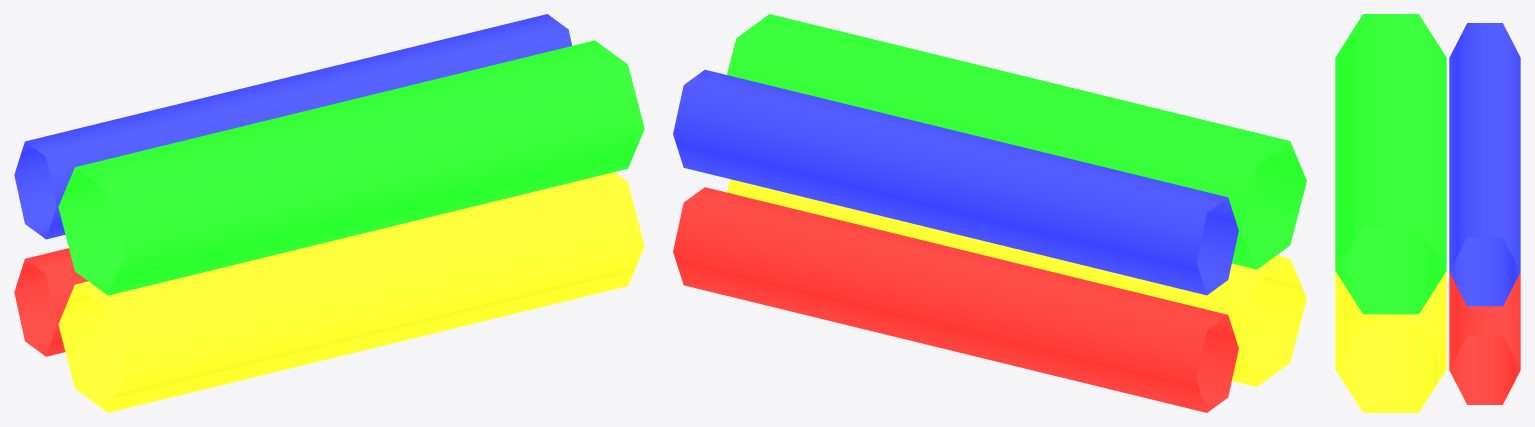
File: reta.fbx
3 renders of one model, left to right at view 1: azimuth 30°, elevation 25°; view 2: azimuth 150°, elevation 25°; view 3: azimuth 270°, elevation 25°, orthographic. The views are drawn at different scales.
Parts seen in each view (by area): view 1: Cube; view 2: Cube; view 3: Cube.
Boxes of the visible parts, box(x1,y1,x2,y2) form: Cube: box(14, 14, 644, 412); Cube: box(673, 14, 1306, 412); Cube: box(1335, 14, 1520, 412).
Size of the model in its own units: 429 by 174 by 157.
